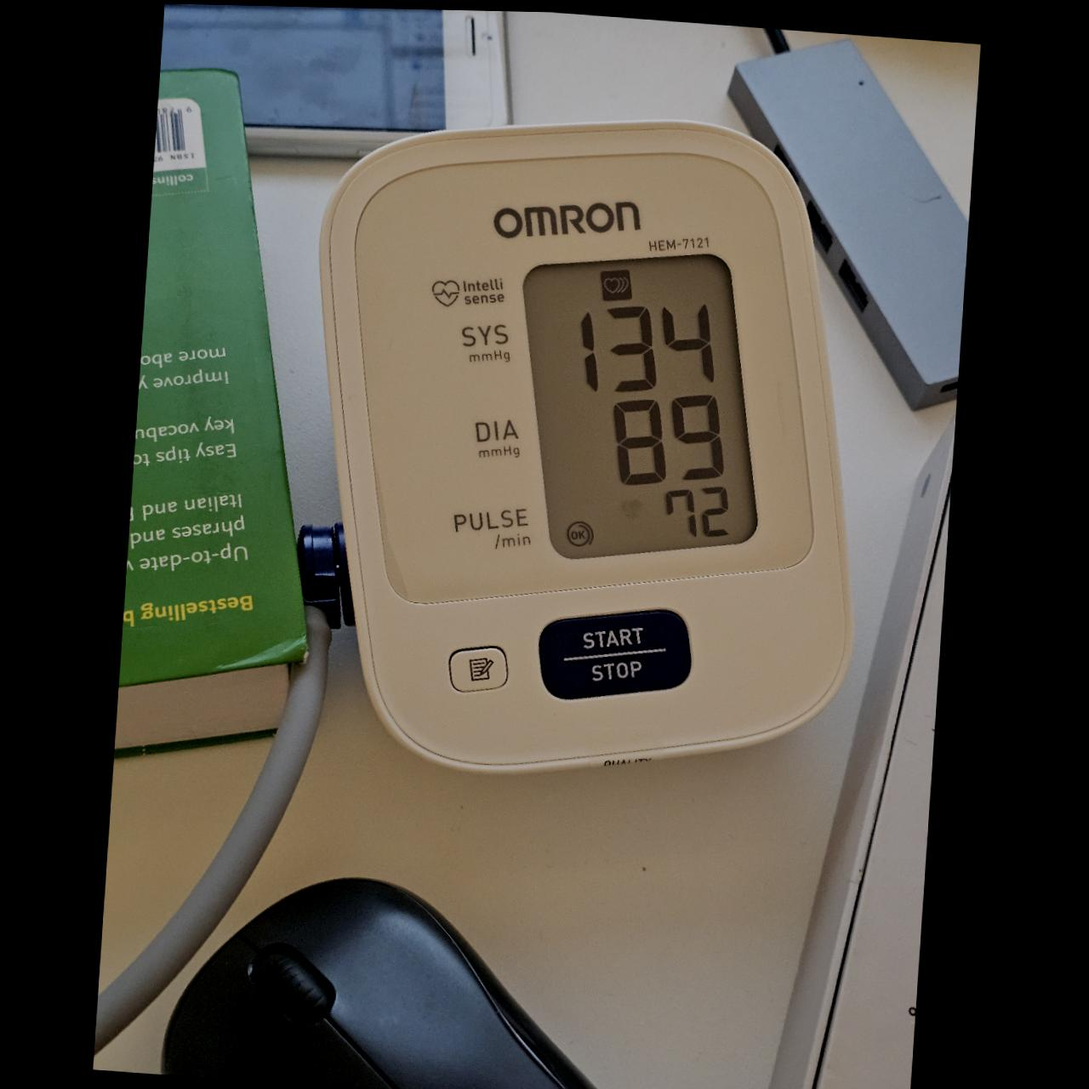lcd display: (502, 236, 779, 580)
